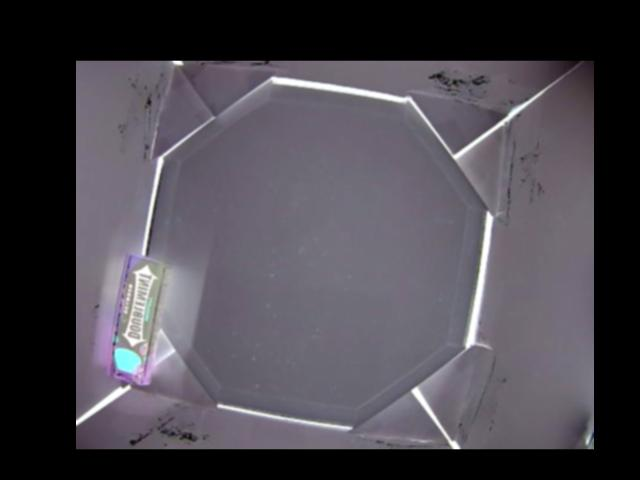Bottle: (104, 254, 169, 386)
